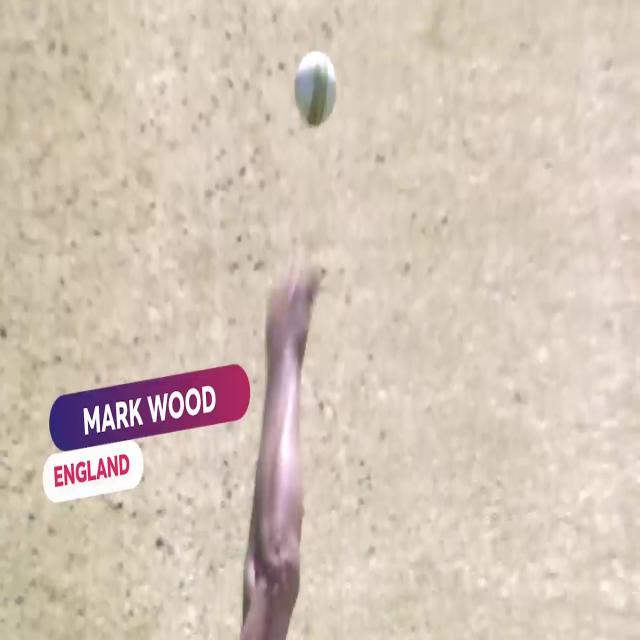ball: (293, 46, 339, 131)
